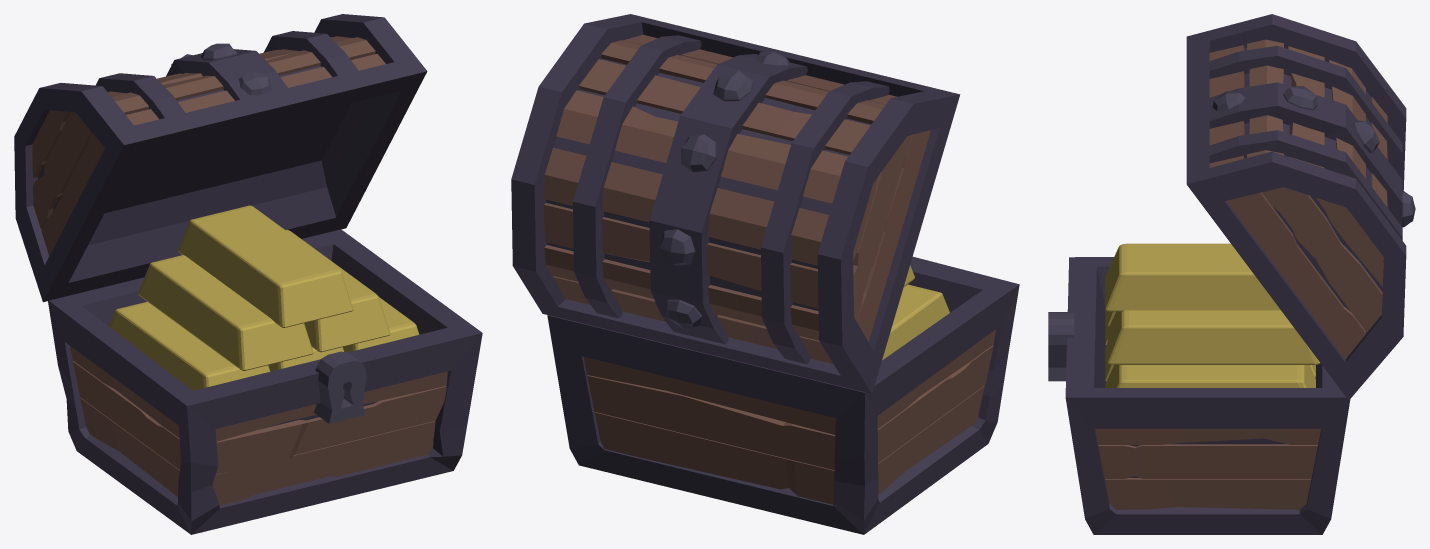
The model's file is Q_Chest_Ingots.glb.
3 views of the same model, side by side, from view 1: azimuth 30°, elevation 25°; view 2: azimuth 150°, elevation 25°; view 3: azimuth 270°, elevation 25° (orthographic). The views are drawn at different scales.
Parts seen in each view (by area): view 1: Chest_Ingots; view 2: Chest_Ingots; view 3: Chest_Ingots.
Part boxes in pixels (x1,y1,x2,y2): Chest_Ingots: [14, 14, 482, 534]; Chest_Ingots: [511, 14, 1019, 534]; Chest_Ingots: [1048, 14, 1415, 534].
Bounding box in the file's own units: 0.9495 × 1.15 × 0.9963.
